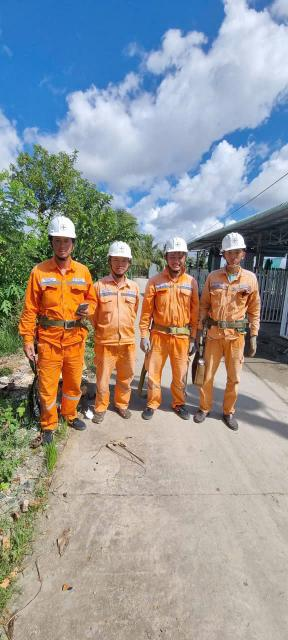gloves: (247, 335, 262, 359), (135, 337, 158, 352), (186, 342, 198, 355)
harness: (32, 313, 93, 332), (148, 317, 197, 338), (201, 312, 250, 332)
helmet: (43, 213, 81, 242), (103, 235, 130, 262), (164, 234, 189, 261), (219, 228, 248, 251)
shoes: (29, 426, 63, 445), (171, 399, 197, 419), (221, 411, 246, 431), (58, 415, 87, 432), (86, 405, 108, 425), (137, 400, 157, 420), (115, 400, 133, 420), (191, 406, 208, 425)
